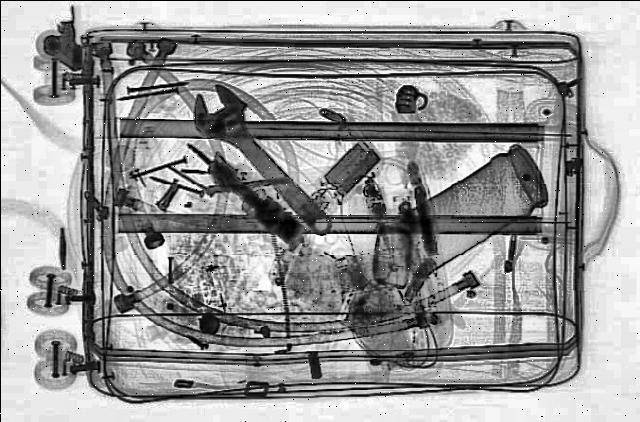Wrench: (168, 81, 358, 244)
